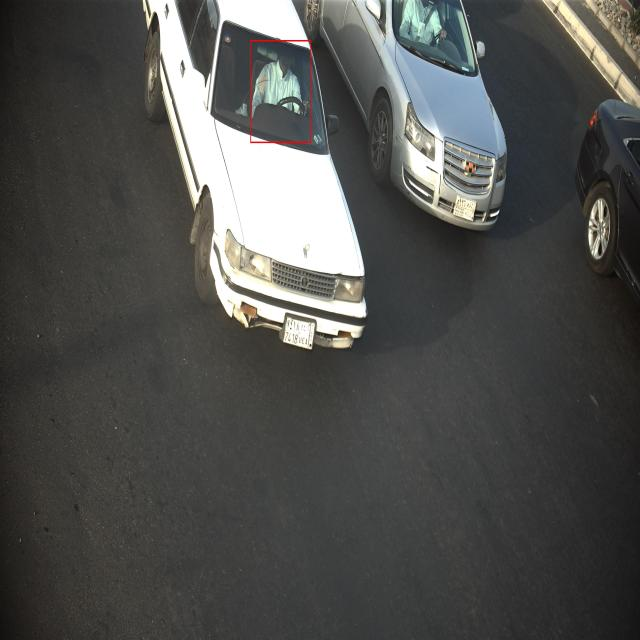windshield: (210, 14, 329, 164), (390, 1, 482, 78)
